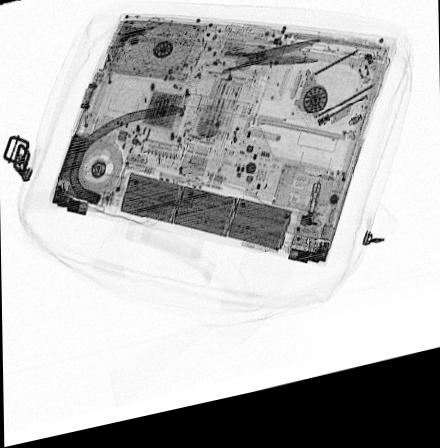Scissors: (188, 27, 324, 115)
